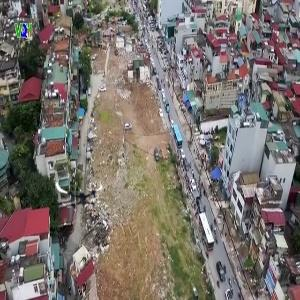drone: (60, 172, 107, 219)
